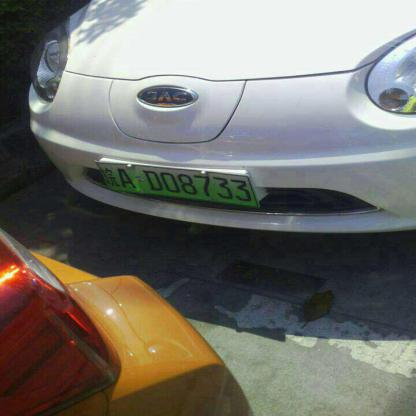lp: (98, 160, 258, 207)
